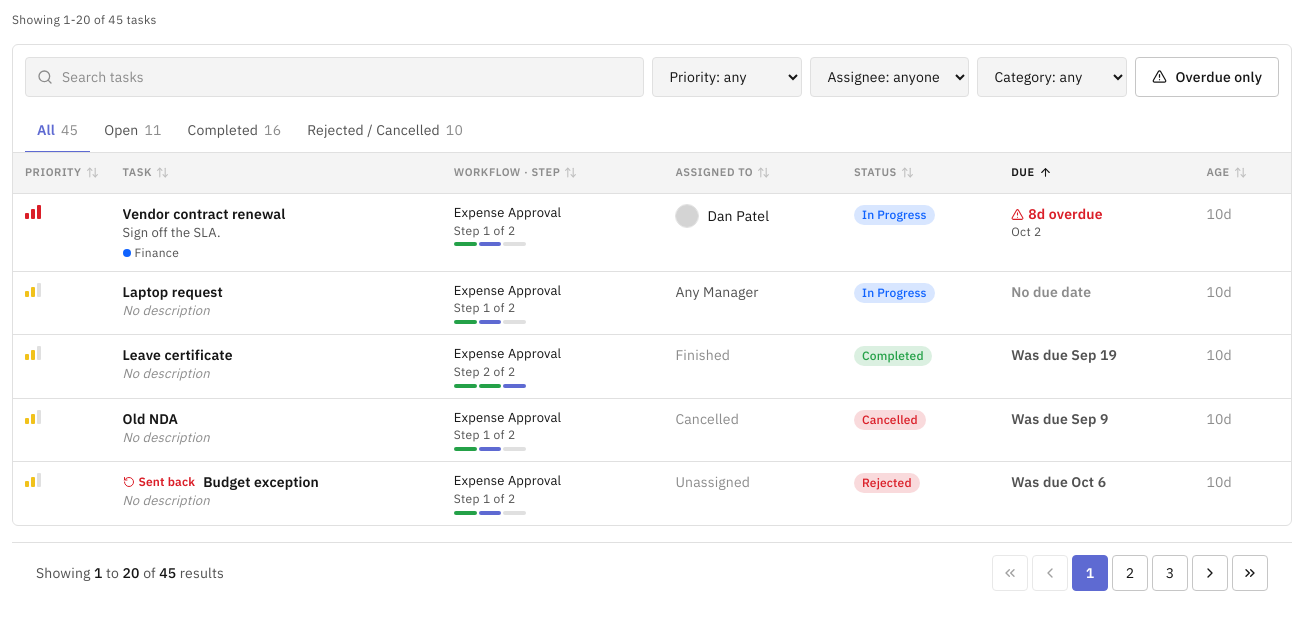
Test case: AllTasks (table) › TC-A07: pagination asks the server for the next page
Expected: the button "Vendor contract renewal" is shown, [122,204,286,224]
Click the button named "Next page" at (1210, 573), box [1192,555,1228,591]
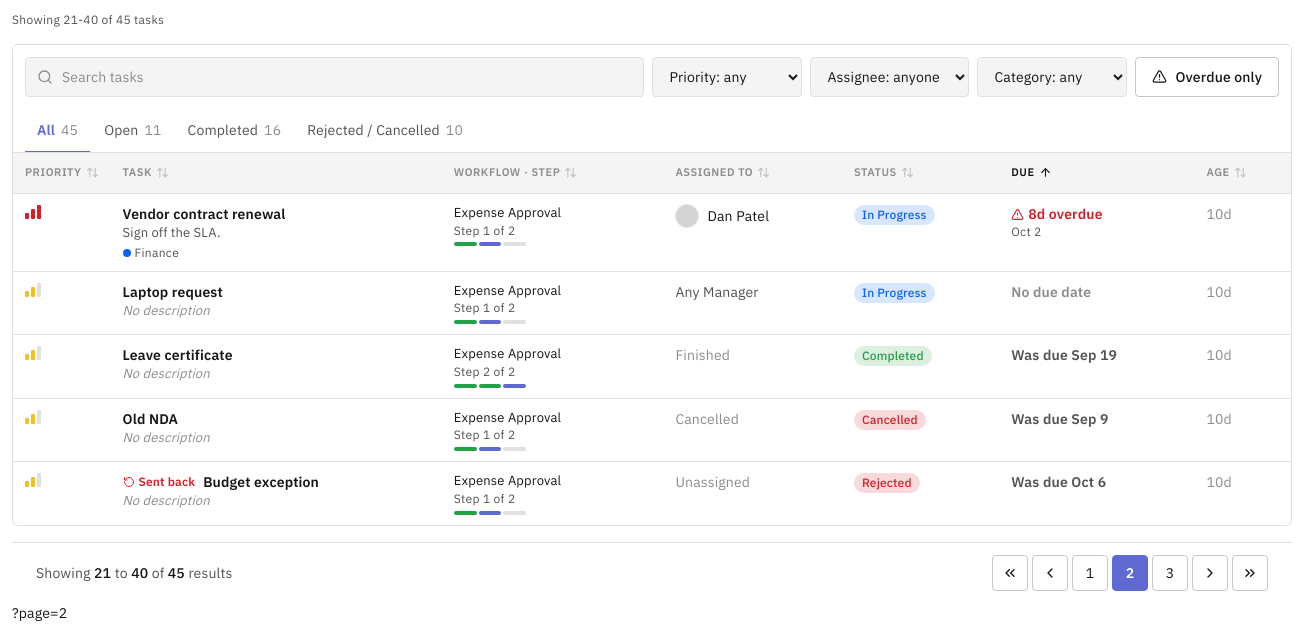
Result: the text with test id "where" reads "?page=2" at [12,604,67,622]
Result: the message reads "Showing 21-40 of 45 tasks" at [12,12,164,27]
